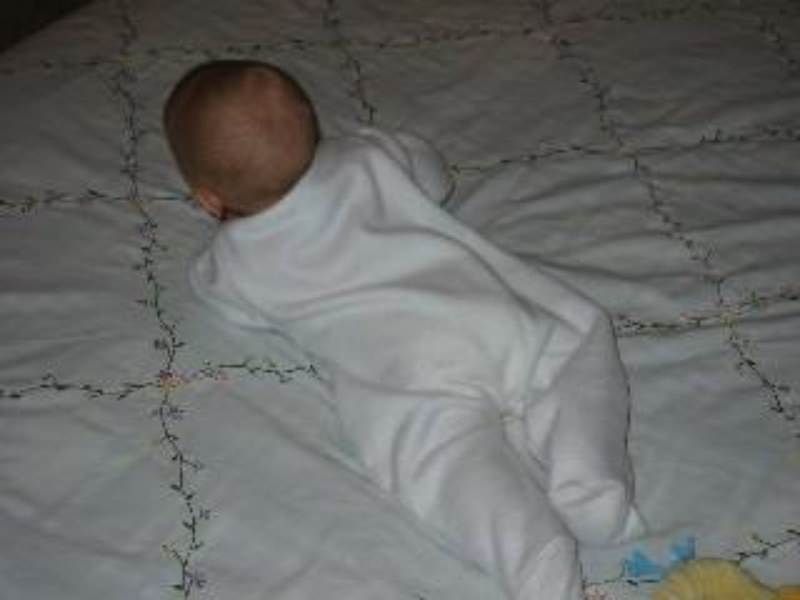person: (163, 61, 644, 600)
